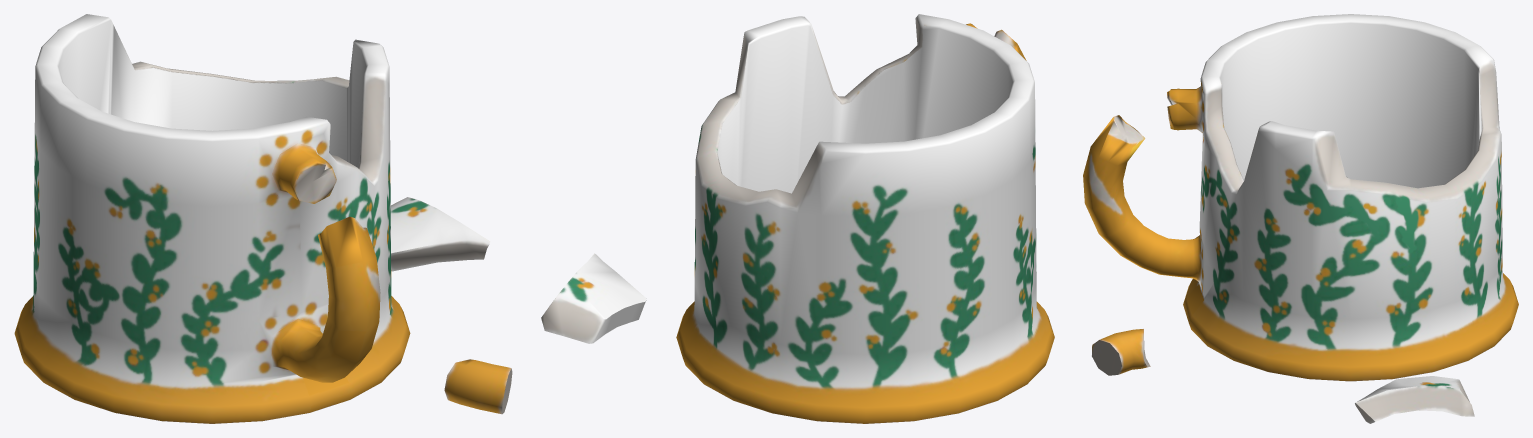
File: GenericProp-BrokenMug.fbx
3 renders of one model, left to right at view 1: azimuth 30°, elevation 25°; view 2: azimuth 150°, elevation 25°; view 3: azimuth 270°, elevation 25°, orthographic. The views are drawn at different scales.
Visible parts, largest first — view 1: Broken Mug; view 2: Broken Mug; view 3: Broken Mug.
Boxes of the visible parts, x1,y1,x2,y2 form: Broken Mug: (14, 14, 512, 423); Broken Mug: (541, 14, 1054, 423); Broken Mug: (1083, 14, 1518, 423).
Size of the model in its own units: 25.3 by 14.71 by 24.47.
